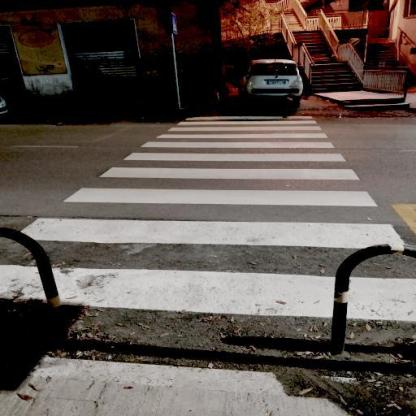crosswalk: (53, 164, 384, 211), (136, 132, 340, 152), (173, 114, 321, 126)
